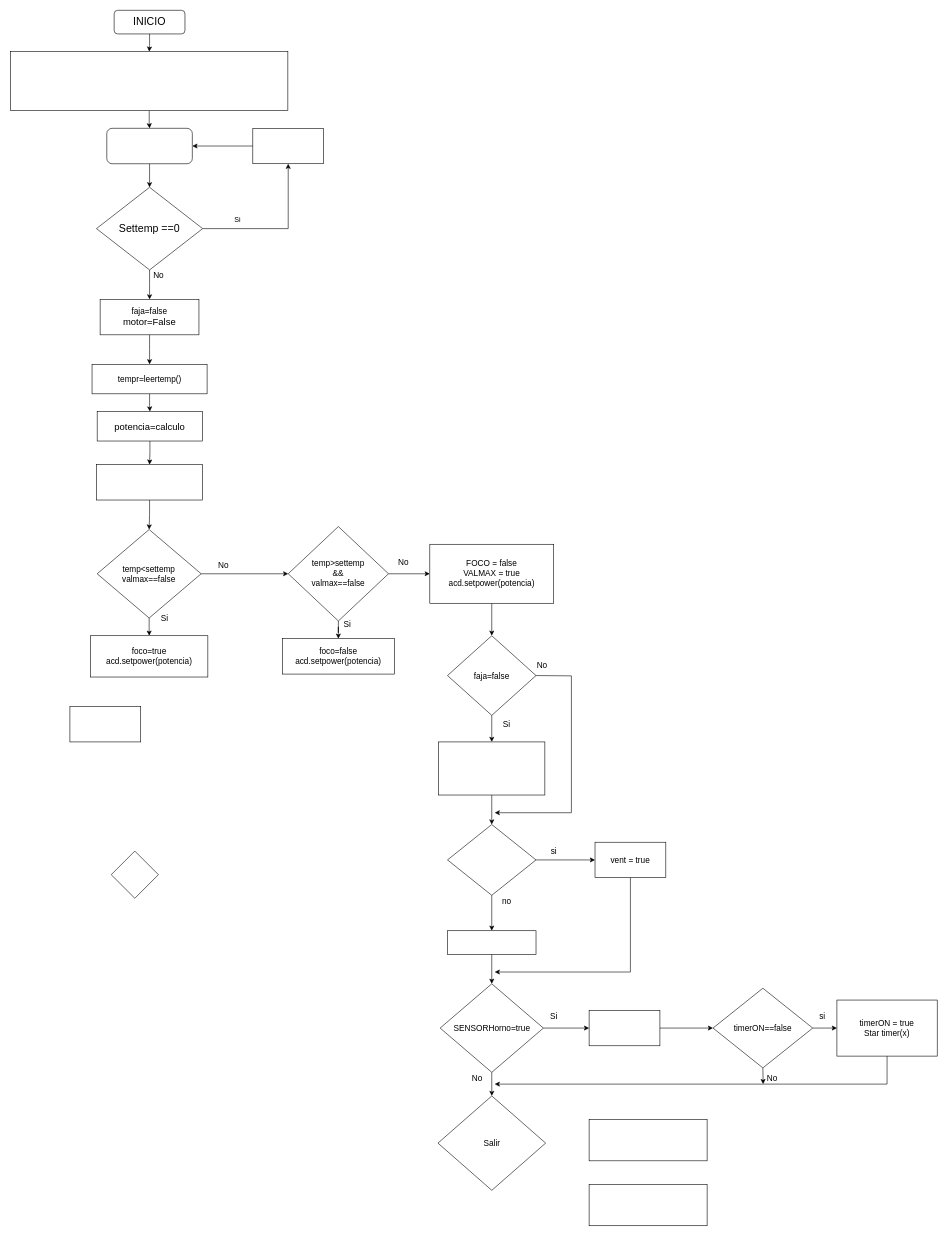
Image size: 948x1236. Some labels were removed from this diagram. The shapes that lost their labels are listed below. From the top down, each one's box as (x1, y1, x2, y2) in pixels, then its label:
(10, 51, 288, 111): SERVO1: false SERVO2: false FAJA: true VALMAX:false PINLEC:
(106, 128, 192, 164): Settemp=leeColor
(252, 128, 324, 164): Mostrar LCD y Serial
(96, 464, 203, 500): Mostrar serial
(438, 741, 545, 795): motor = ON temp>settemp
(447, 824, 536, 895): temp>settemp
(447, 930, 536, 954): vent = false
(589, 1010, 660, 1046): motor = OFF
